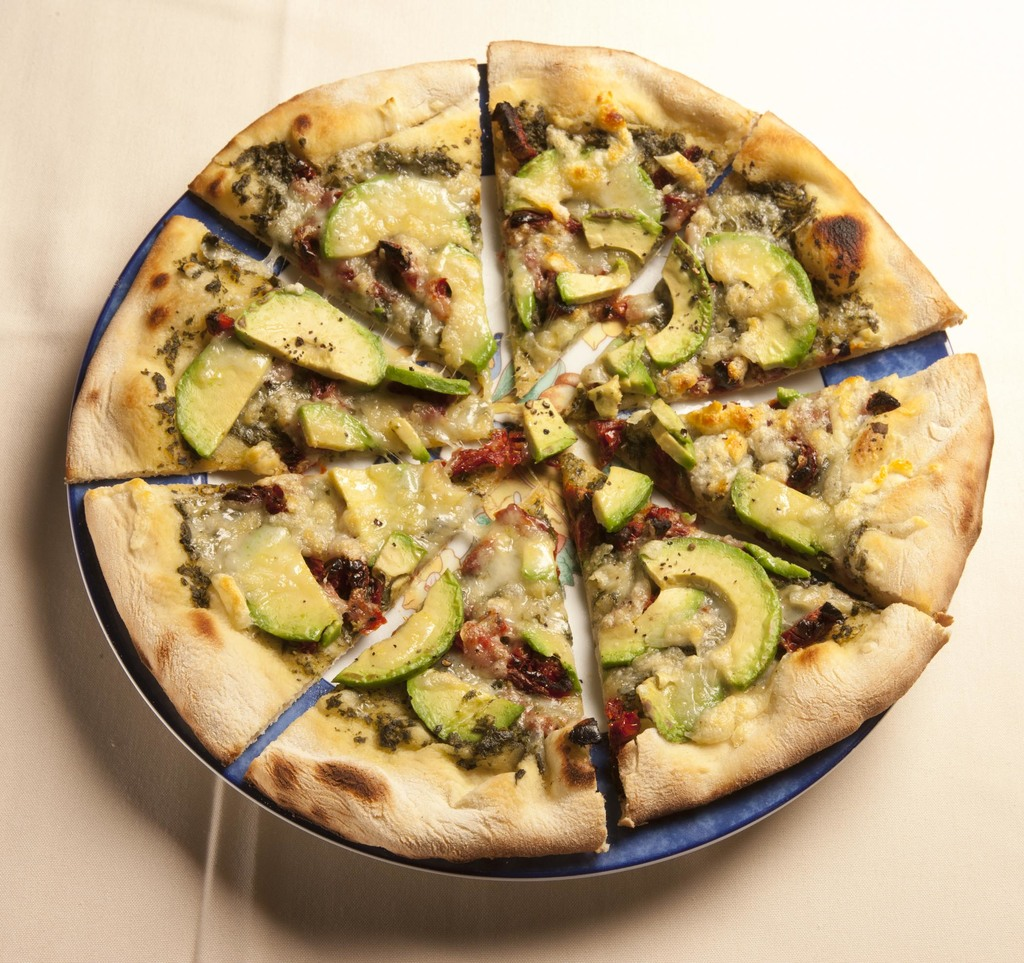Pizza: (64, 47, 981, 893), (558, 458, 960, 827), (245, 473, 606, 861), (80, 445, 495, 765), (548, 101, 969, 398), (576, 346, 996, 628), (75, 208, 500, 478), (187, 56, 494, 379), (488, 41, 760, 398)
